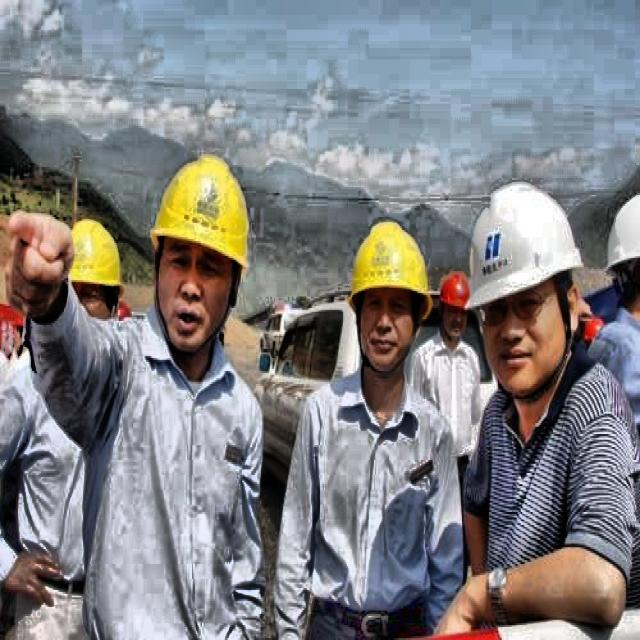helmet: (152, 150, 262, 360), (480, 184, 586, 392), (340, 213, 422, 375), (60, 210, 120, 330), (603, 185, 639, 321), (437, 272, 476, 338)
